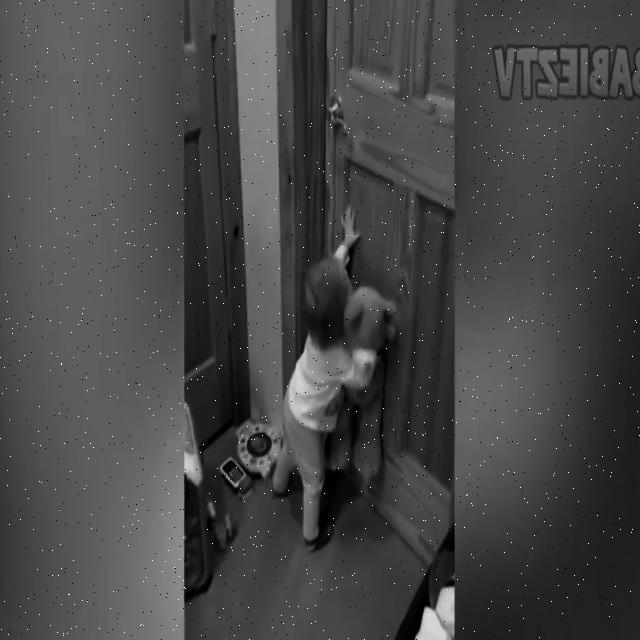child: (270, 205, 396, 559)
